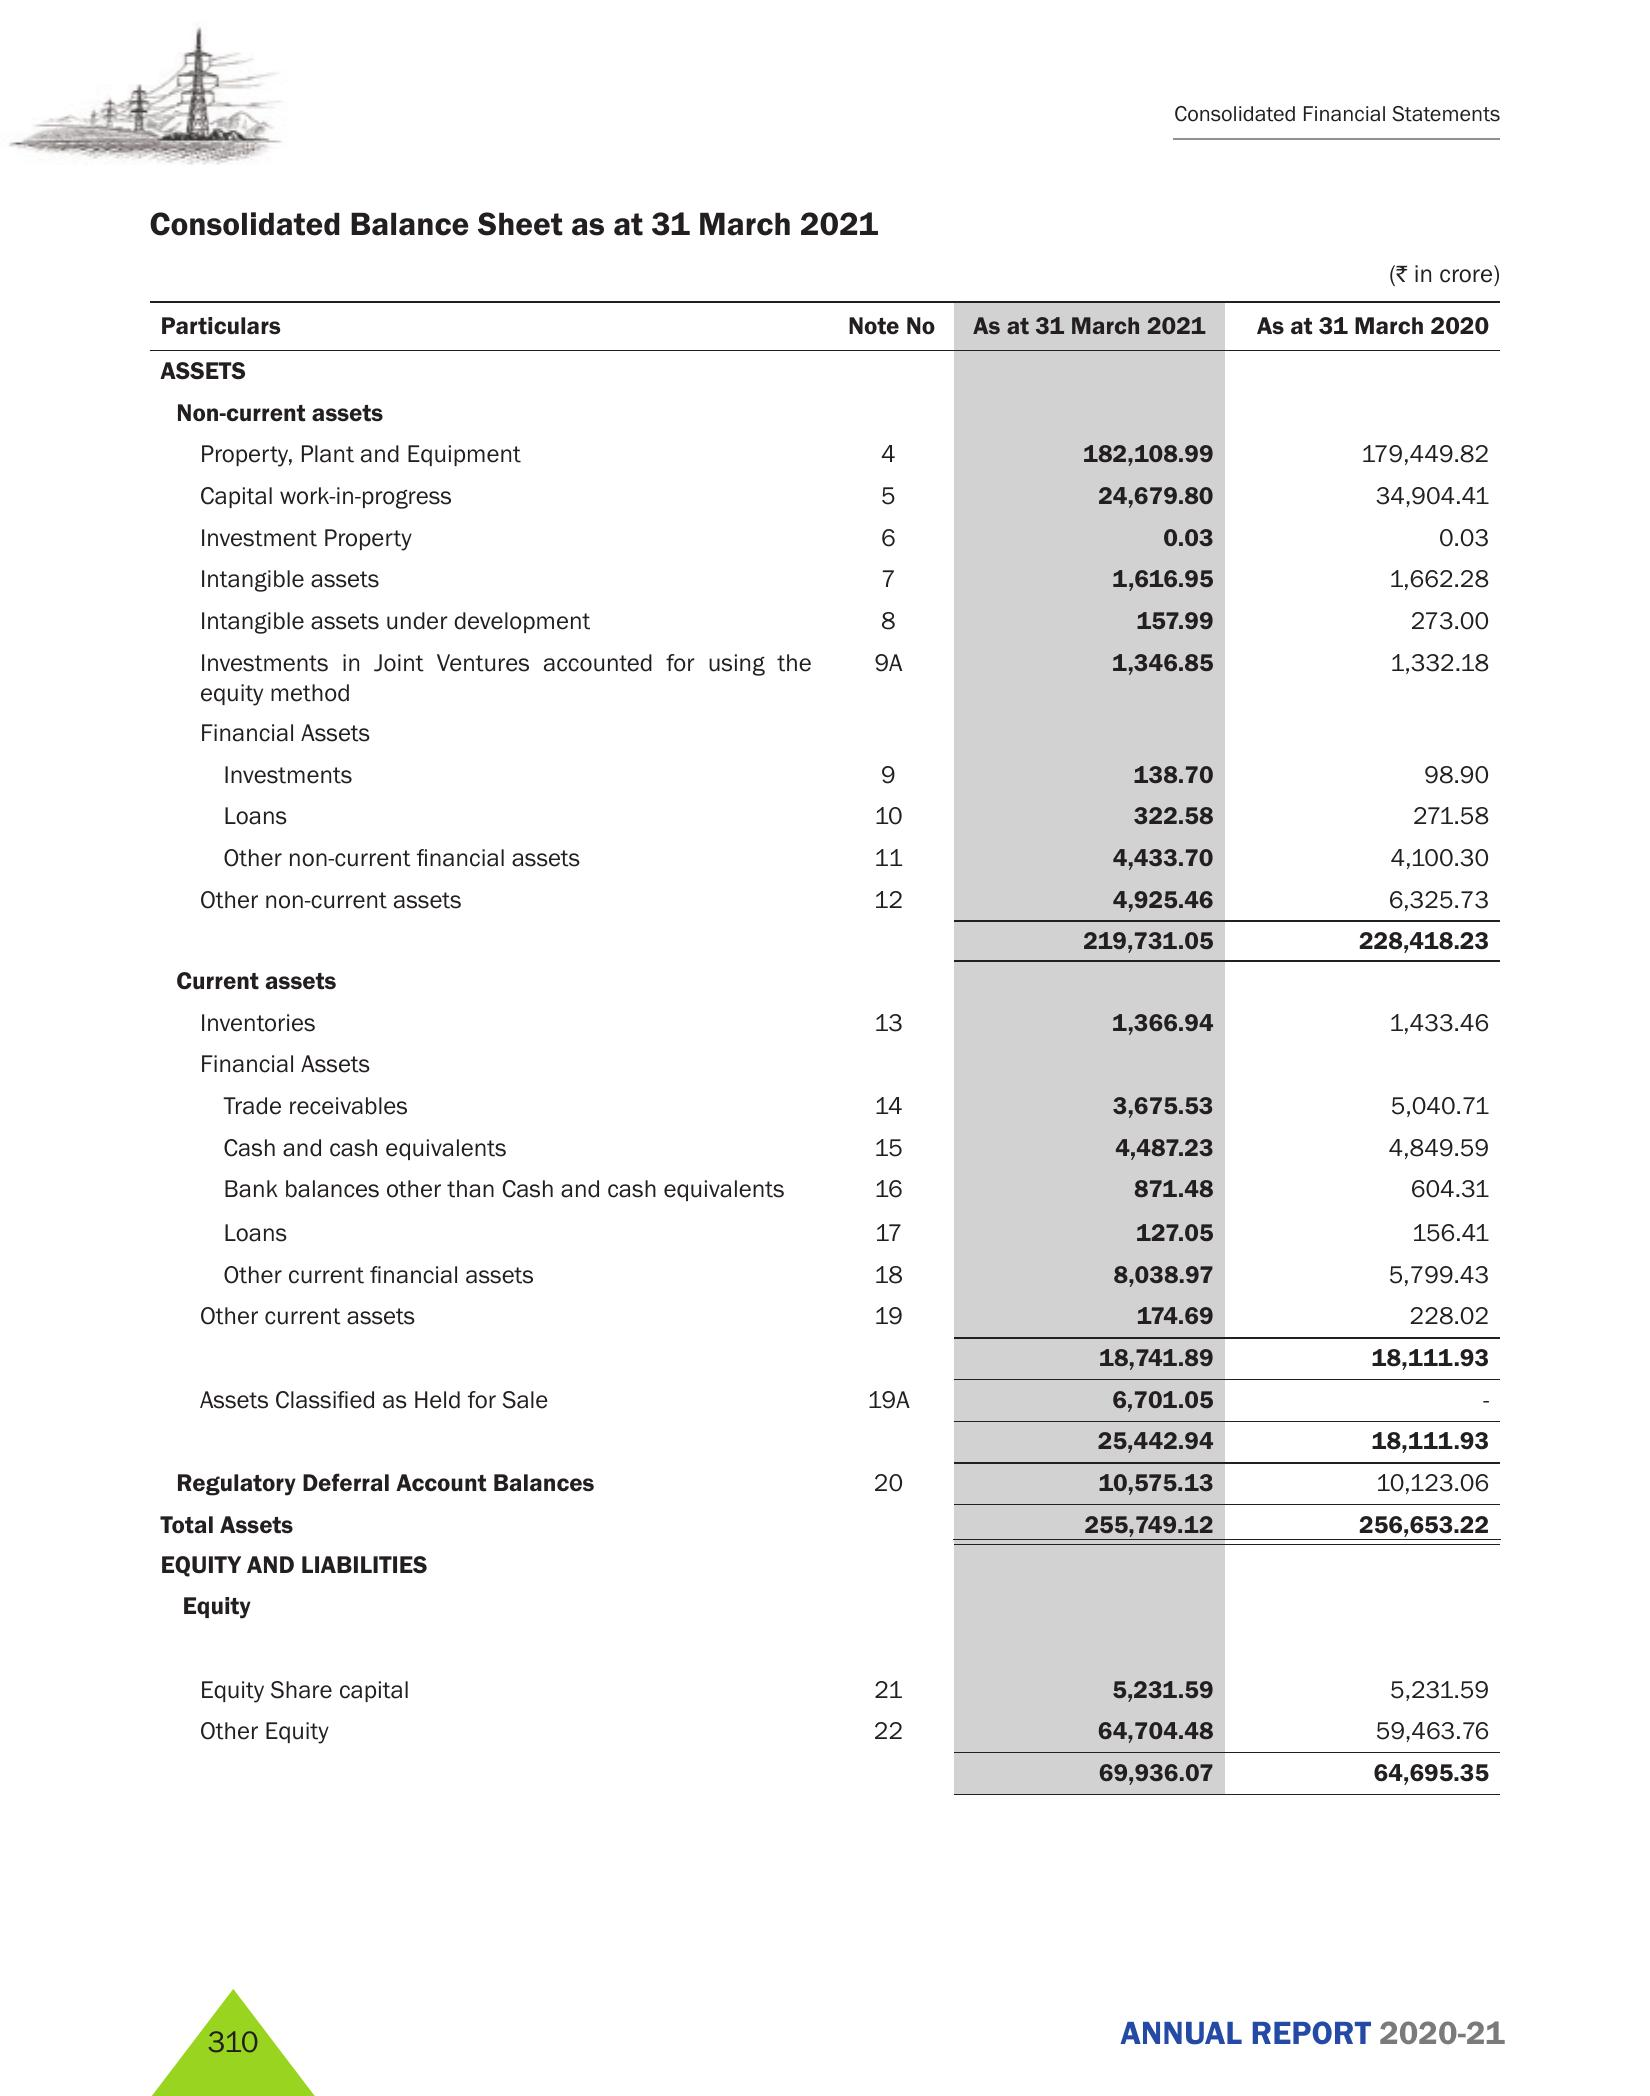Footer: (0, 1962, 1650, 2096)
Header: (0, 0, 1650, 175)
Table: (129, 298, 1536, 1793)
